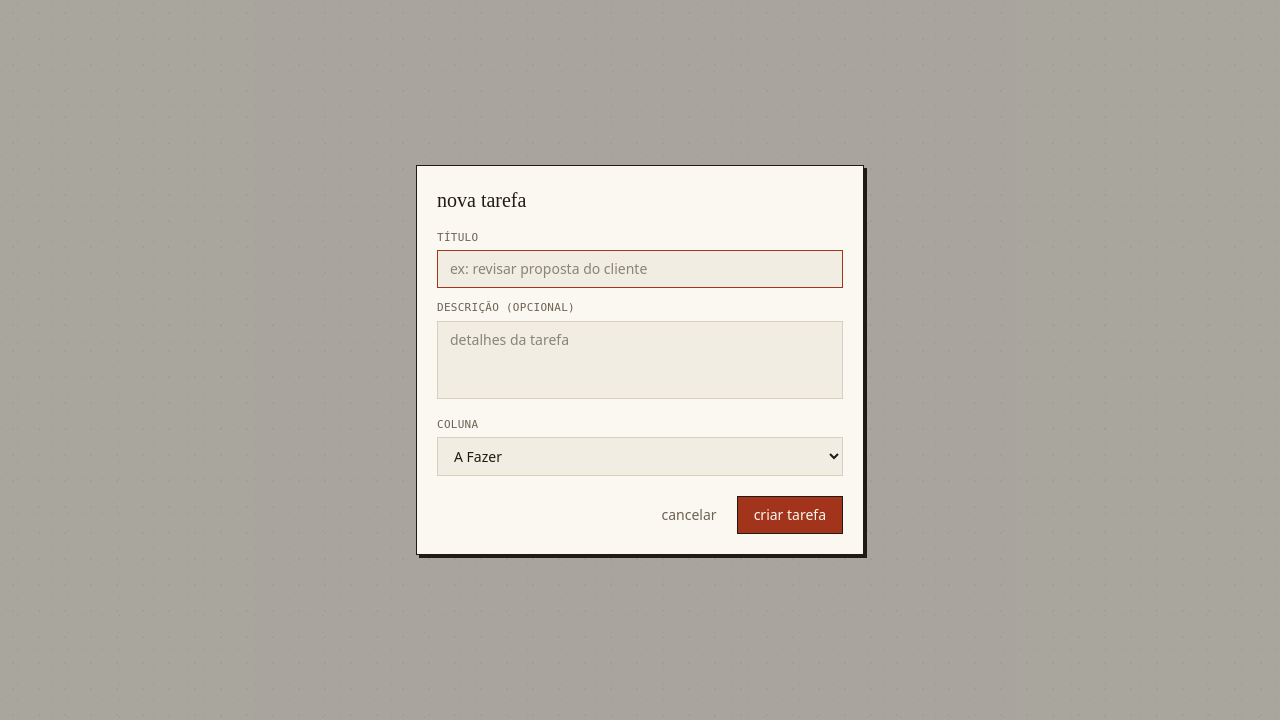
TaskFormModal › bloqueia o envio e mostra erro quando o título está vazio
The image size is (1280, 720).
Click the button "criar tarefa". click: {"x": 790, "y": 515}
box: [737,496,843,534]
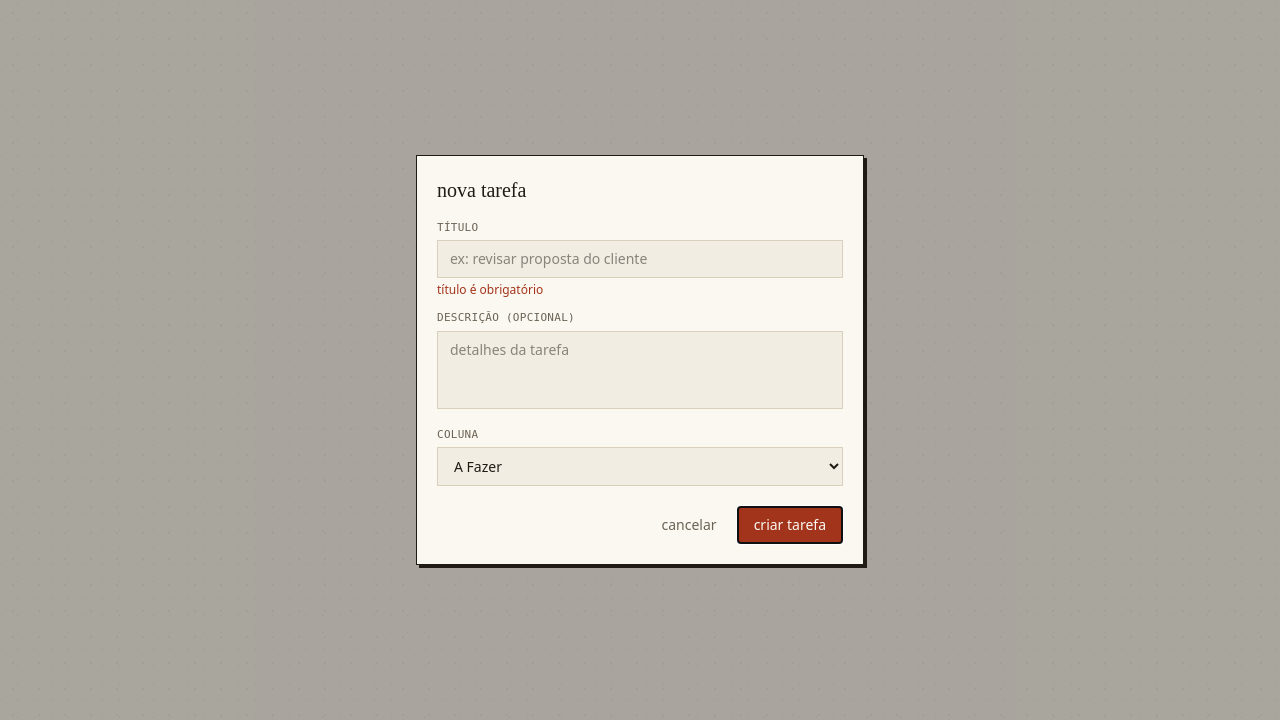
Check: the text "título é obrigatório" is shown, box [437,281,543,298]
